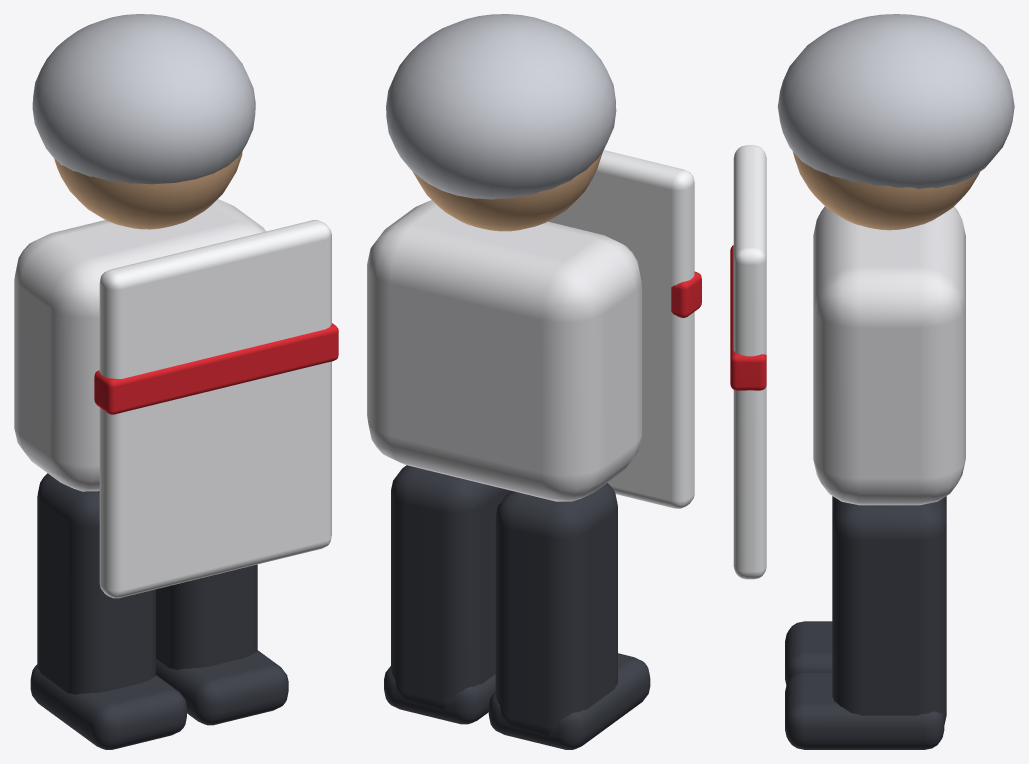
The model's file is enhed.glb.
3 renders of one model, left to right at view 1: azimuth 30°, elevation 25°; view 2: azimuth 150°, elevation 25°; view 3: azimuth 270°, elevation 25°, orthographic. The views are drawn at different scales.
Visible parts, largest first — view 1: krop_net, benV_net, benH_net; view 2: krop_net, benV_net, benH_net; view 3: krop_net, benH_net, benV_net.
Part boxes in pixels (x1,y1,x2,y2): krop_net: (14,14,338,598); benV_net: (30,473,186,749); benH_net: (156,564,288,725); krop_net: (367,14,701,508); benV_net: (488,483,650,749); benH_net: (384,465,510,724); krop_net: (730,14,1014,579); benH_net: (785,498,946,749); benV_net: (785,496,946,684).
Bounding box in the file's own units: 0.82 × 2.27 × 0.857.
